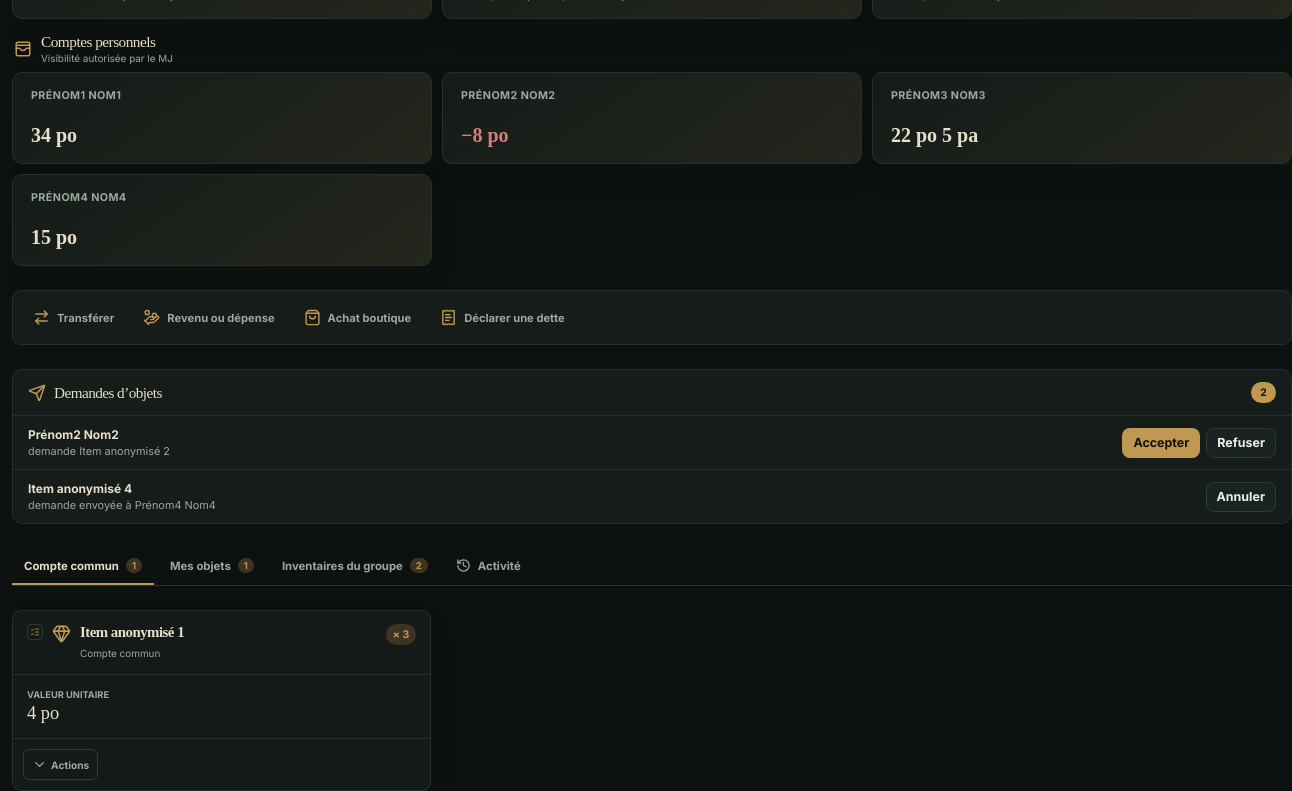
retire immédiatement une demande annulée de l’écran
(page scrolled)
Click the button "Annuler" at [1241, 496], box [1206,482,1276,512]
(page scrolled)
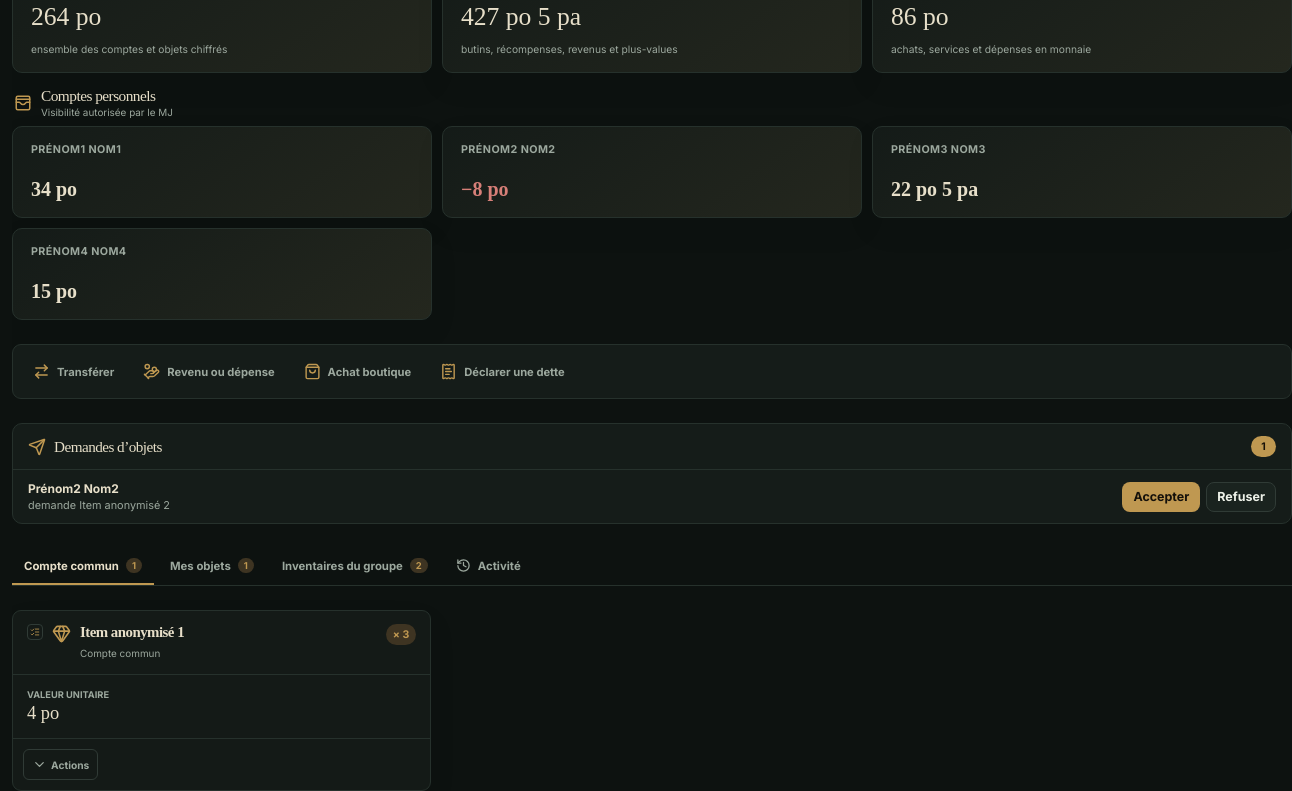
Now the text "demande envoyée à Prénom4 Nom4" is gone
